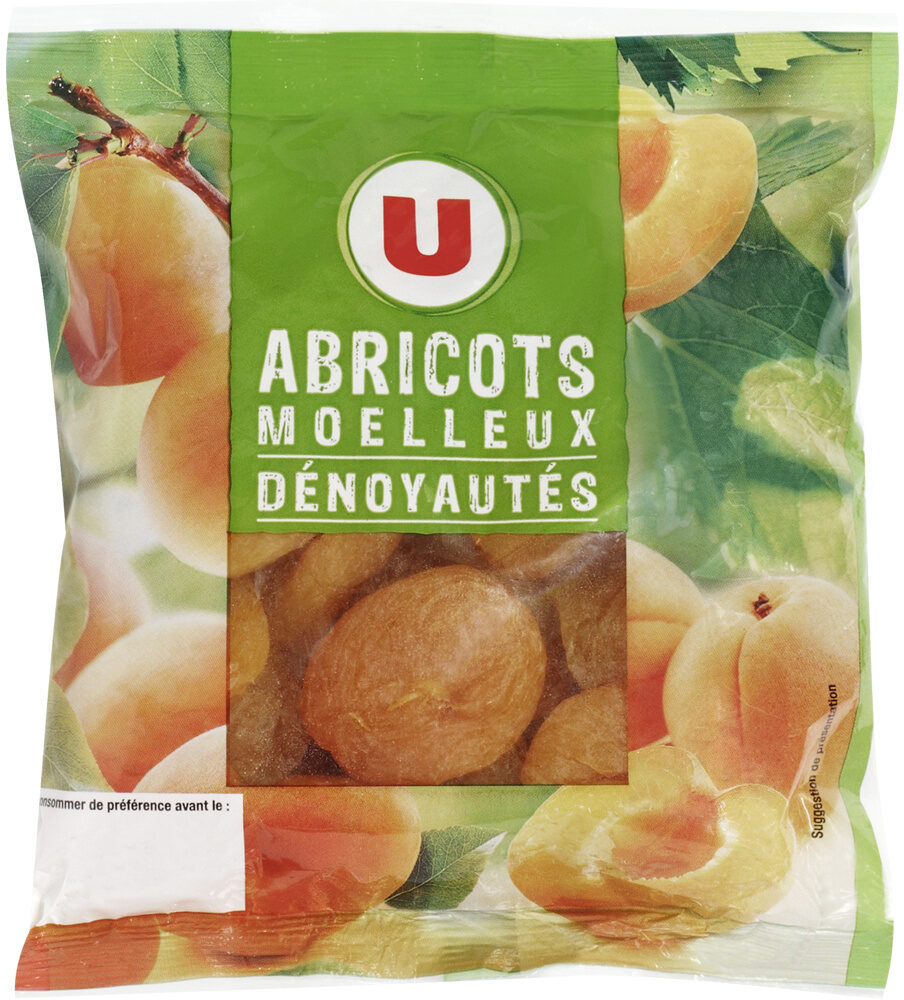Abricot moelleux - Sachet 250g: (45, 50, 859, 950)
